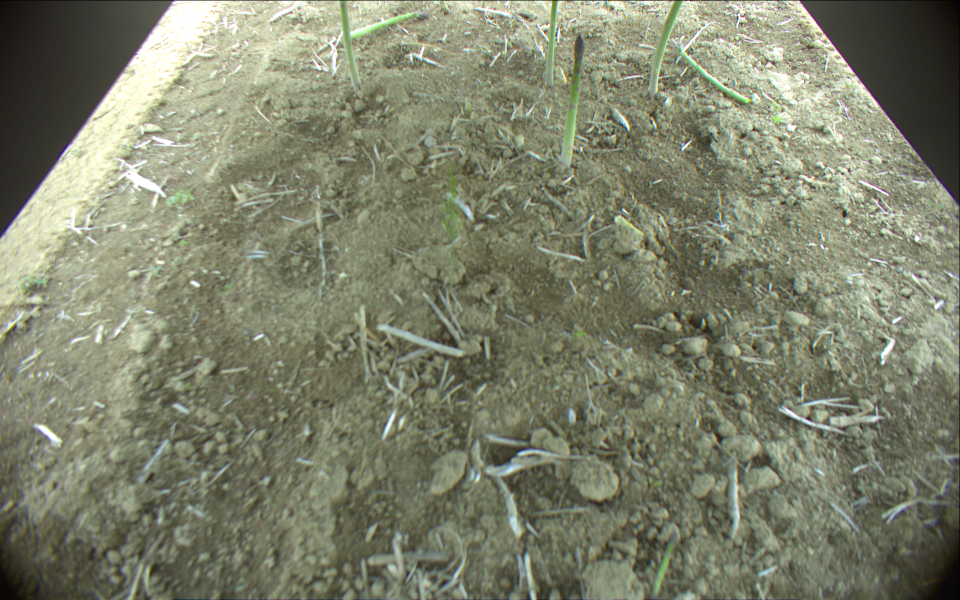aspa: (678, 40, 750, 104), (557, 32, 585, 166), (338, 8, 429, 43), (649, 1, 683, 94), (340, 1, 364, 89), (544, 1, 560, 86)
